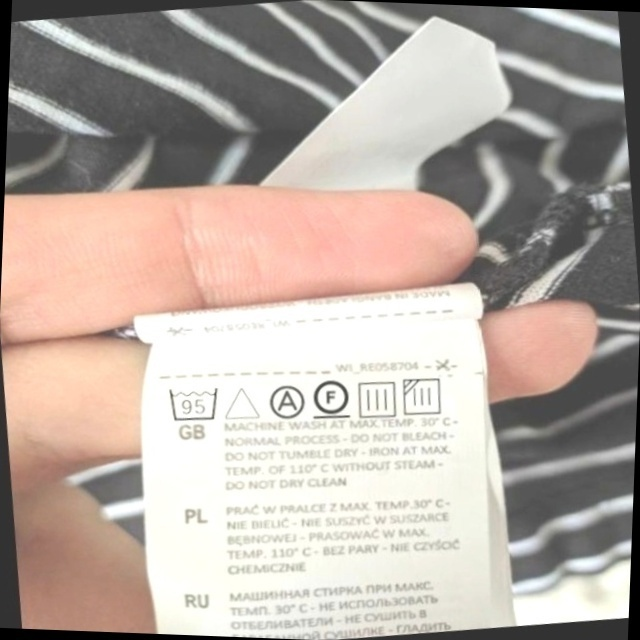95C: (164, 379, 225, 427)
bleach: (221, 379, 262, 426)
drip_dry: (352, 374, 402, 423)
drip_dry_in_shade: (399, 372, 451, 422)
dry_clean: (264, 380, 308, 423)
dry_clean_petrol_only: (309, 372, 355, 423)
